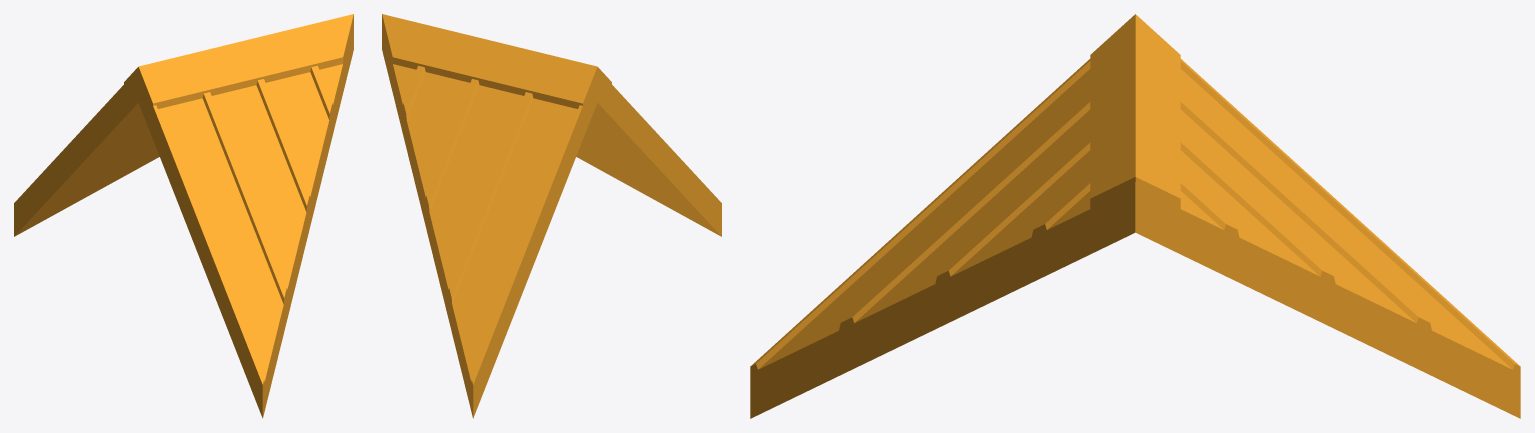
Rendered from SM_Roof_Metal_Regular_2x2m_Diagonal_Center.fbx.
3 renders of one model, left to right at view 1: azimuth 30°, elevation 25°; view 2: azimuth 150°, elevation 25°; view 3: azimuth 270°, elevation 25°, orthographic. The views are drawn at different scales.
Visible parts, largest first — view 1: roof-metal-regular-2x2m-diagonal-center; view 2: roof-metal-regular-2x2m-diagonal-center; view 3: roof-metal-regular-2x2m-diagonal-center.
Boxes of the visible parts, x1,y1,x2,y2 form: roof-metal-regular-2x2m-diagonal-center: (14,14,353,418); roof-metal-regular-2x2m-diagonal-center: (382,14,721,418); roof-metal-regular-2x2m-diagonal-center: (750,14,1520,418).
Bounding box in the file's own units: 2 × 2.32 × 4.
